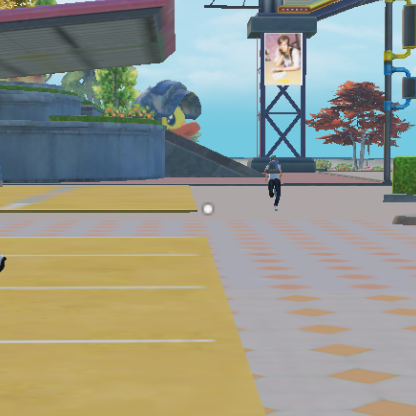ren: (264, 154, 283, 212), (274, 34, 297, 75)
tou: (277, 36, 292, 57), (270, 154, 276, 162)
